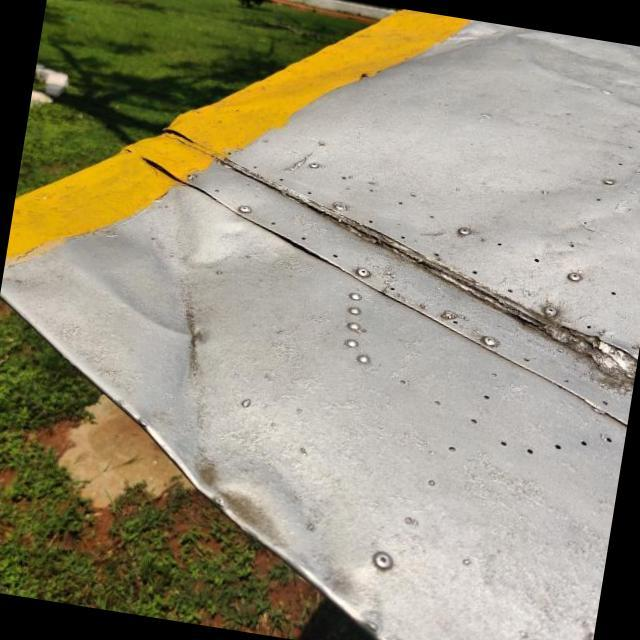Dent: (116, 358, 455, 640)
